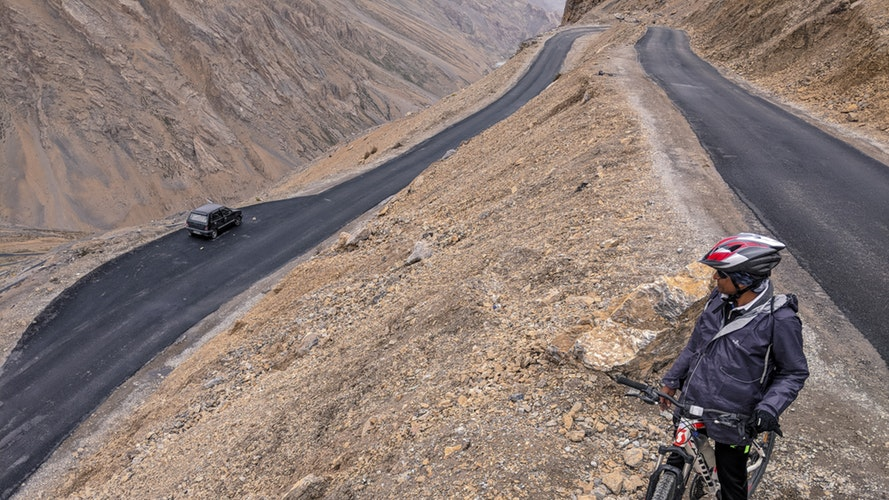helmet: (699, 231, 788, 298)
